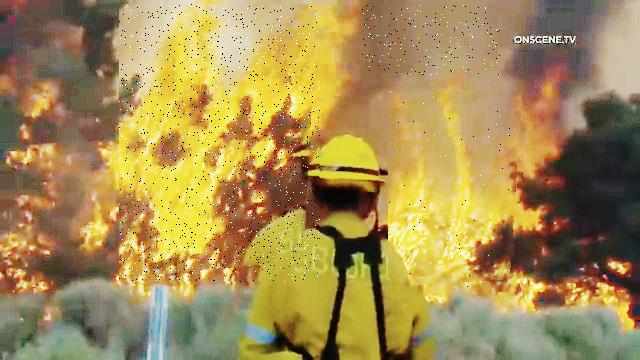fire: (120, 5, 321, 283), (388, 92, 523, 291)
smoke: (363, 6, 501, 76)
